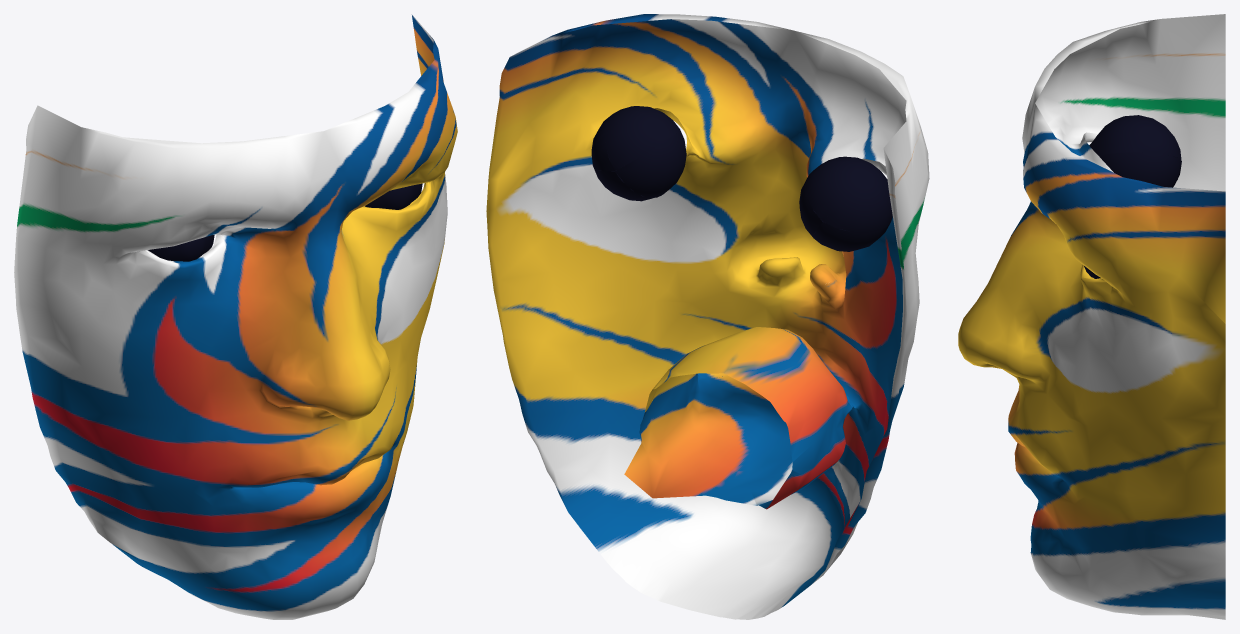
The model's file is Human Mask_JIO.gltf.
The picture shows the model from 3 angles, left to right: view 1: azimuth 30°, elevation 25°; view 2: azimuth 150°, elevation 25°; view 3: azimuth 270°, elevation 25°; orthographic projection. The views are drawn at different scales.
Parts seen in each view (by area): view 1: man_body_0014 uv map_Material.004_0.001; view 2: man_body_0014 uv map_Material.004_0.001; view 3: man_body_0014 uv map_Material.004_0.001.
Boxes of the visible parts, box(x1,y1,x2,y2) form: man_body_0014 uv map_Material.004_0.001: box(14, 14, 457, 619); man_body_0014 uv map_Material.004_0.001: box(486, 14, 929, 619); man_body_0014 uv map_Material.004_0.001: box(958, 14, 1225, 619).
Size of the model in its own units: 0.1341 by 0.1552 by 0.076.
Materials: 2 (1 with a texture image).
